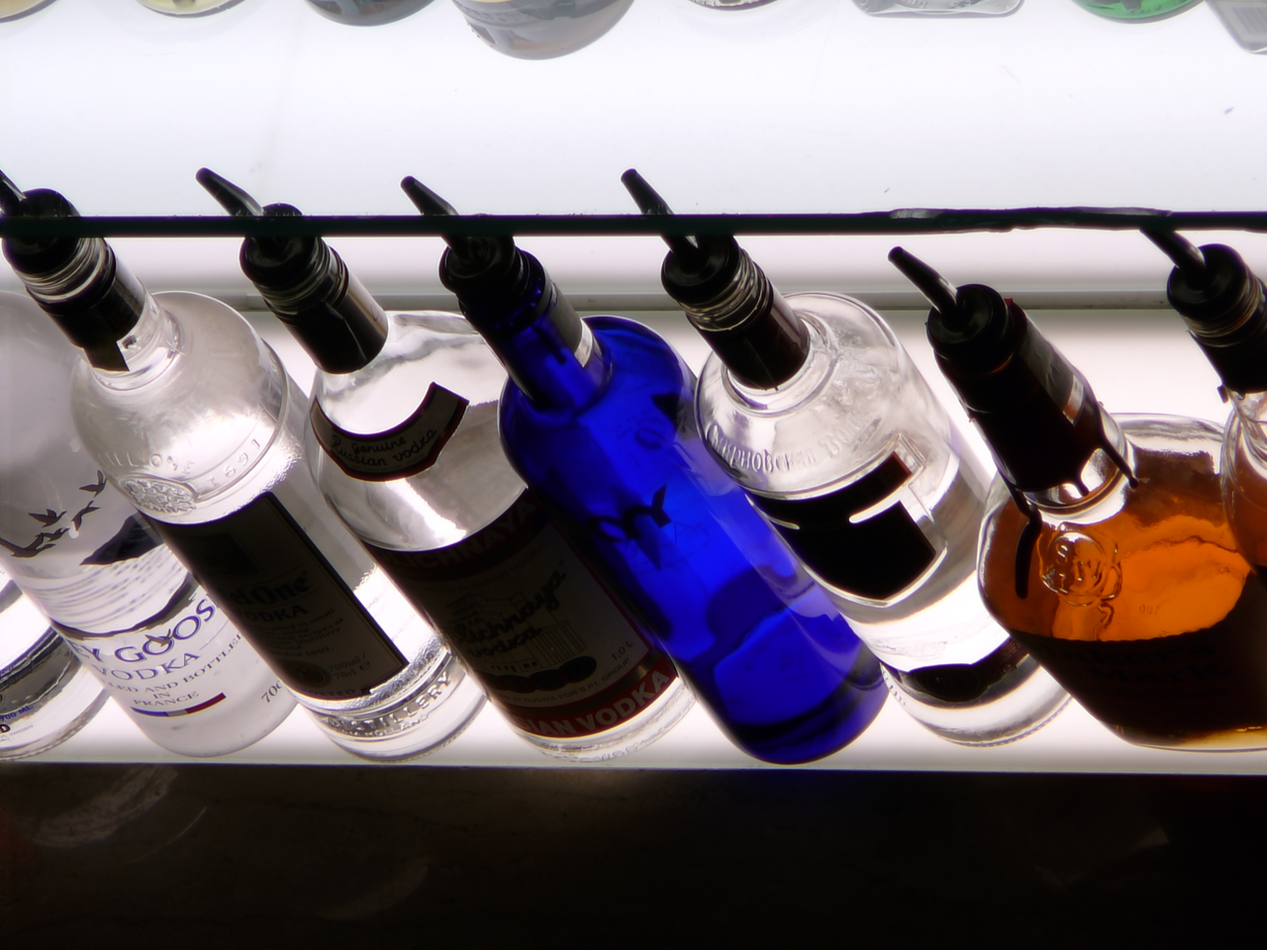unknown_bottle: (0, 178, 486, 761), (222, 184, 698, 761), (408, 201, 889, 765), (638, 183, 1070, 747), (889, 245, 1265, 754), (0, 286, 302, 760), (889, 246, 1142, 516), (1139, 225, 1266, 586), (1138, 227, 1266, 411), (0, 567, 110, 759), (452, 1, 634, 62)
